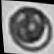correct: (5, 5, 54, 53)
